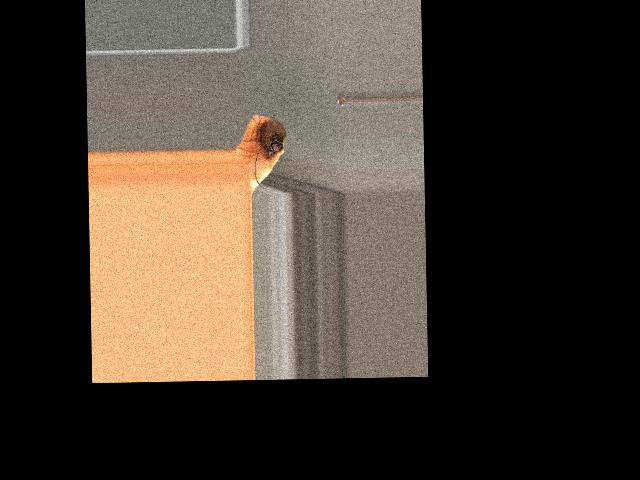beet: (252, 110, 286, 188)
